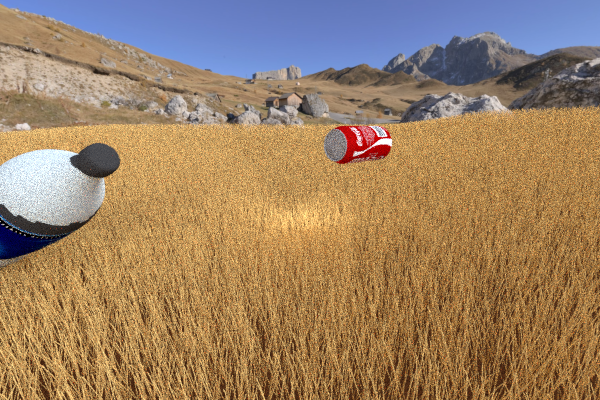Plastic Bottle: (0, 143, 122, 275), (0, 209, 65, 400), (169, 123, 208, 142)
